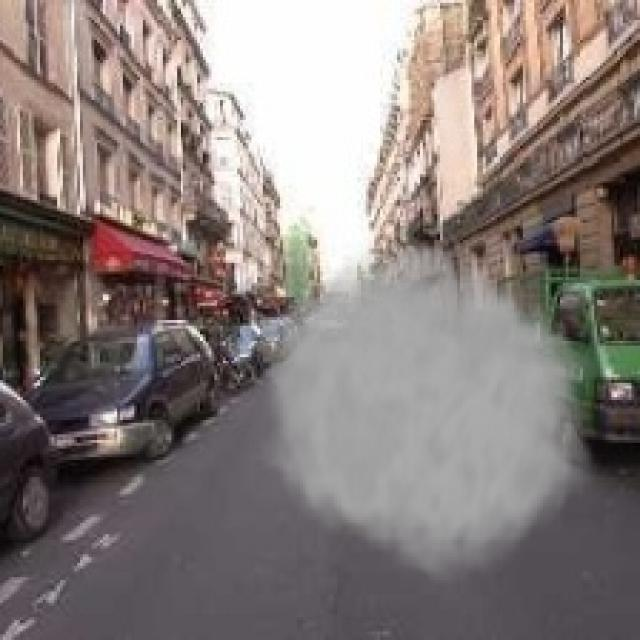smoke: (246, 228, 597, 592)
